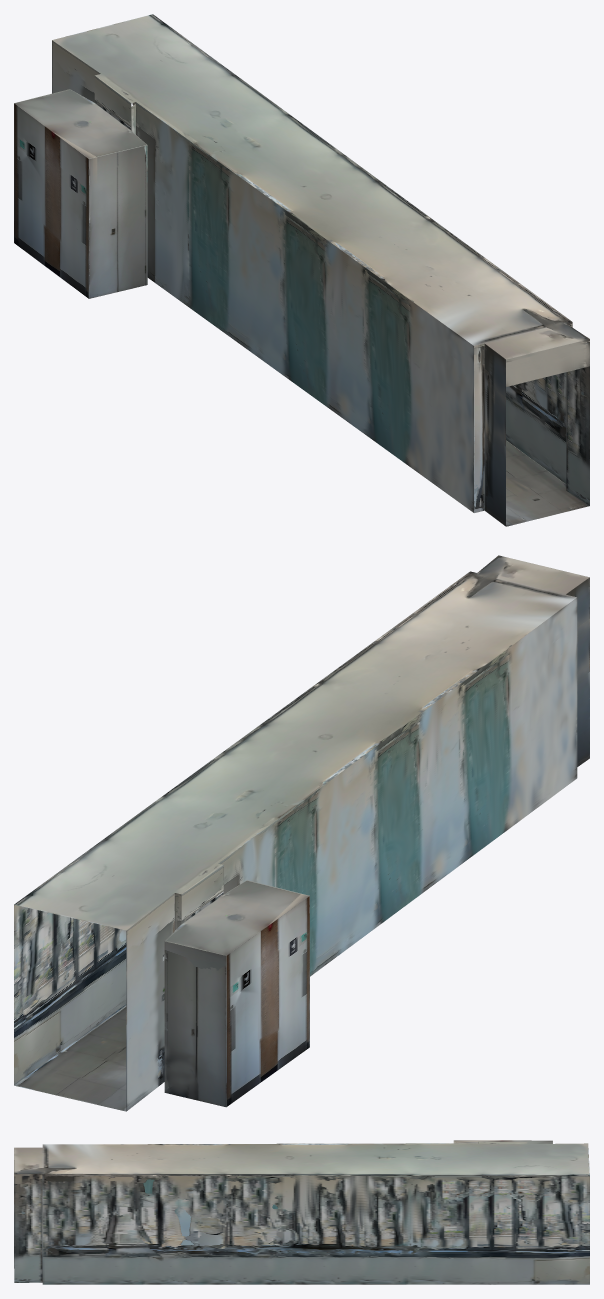
Rendered from MLG_corr_4-IM.fbx.
3 views of the same model, one above another, from view 1: azimuth 30°, elevation 25°; view 2: azimuth 150°, elevation 25°; view 3: azimuth 270°, elevation 25° (orthographic). The views are drawn at different scales.
Visible parts, largest first — view 1: 4corr-left-sideLP; view 2: 4corr-left-sideLP; view 3: 4corr-left-sideLP.
Part boxes in pixels (x1,y1,x2,y2): 4corr-left-sideLP: (14,14,589,526); 4corr-left-sideLP: (14,555,589,1111); 4corr-left-sideLP: (14,1140,589,1284).
Size of the model in its own units: 268 by 253 by 1216.
1 material, 1 textured.
